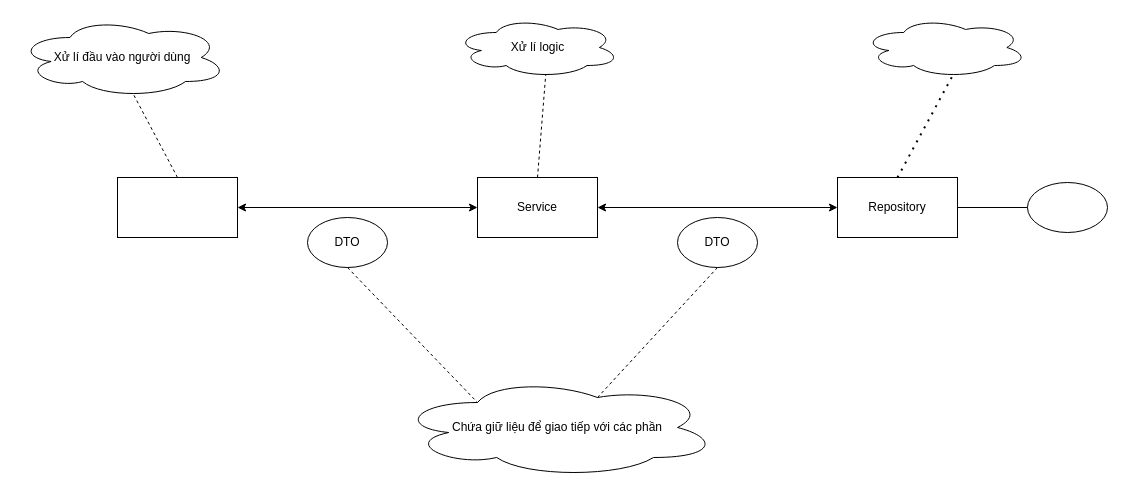
Some shapes in this 1125 by 495 pixel diagram are drawn without their labels. The shapes that lost their labels are listed below. From the top down, each one's centre as x and y in pixels, then its label:
At (x=945, y=47): "Làm việc với db".
At (x=177, y=207): "Controller".
At (x=1067, y=207): "Domain".
